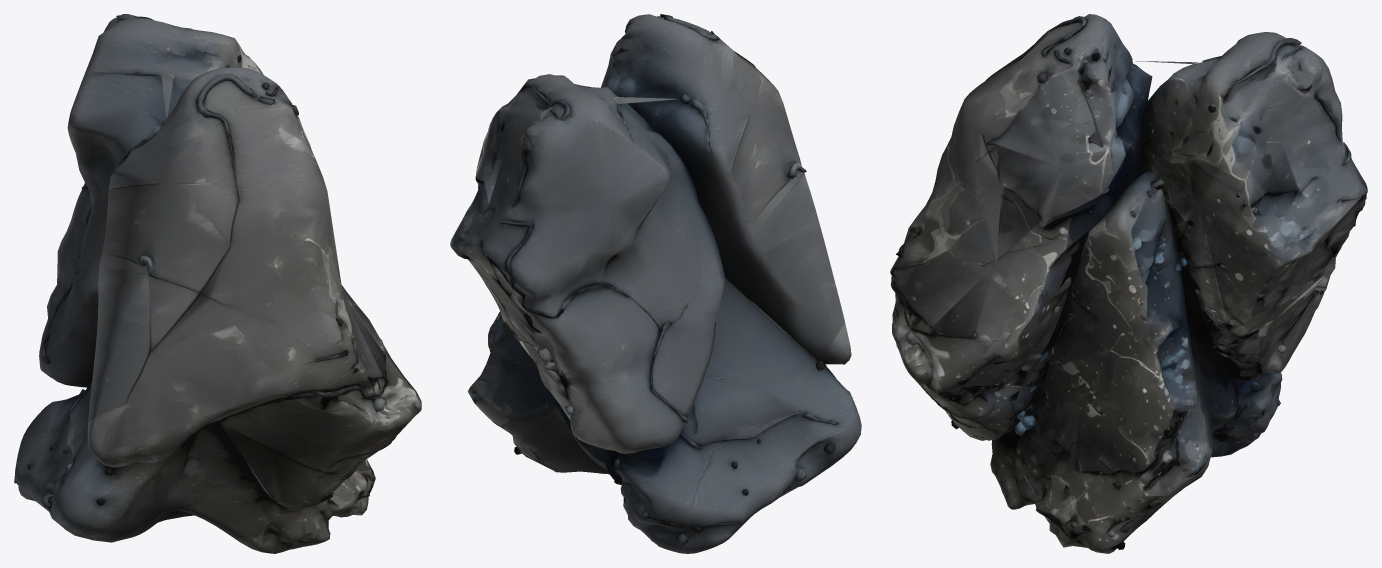
The model's file is moon-rock.glb.
3 views of the same model, side by side, from view 1: azimuth 30°, elevation 25°; view 2: azimuth 150°, elevation 25°; view 3: azimuth 270°, elevation 25° (orthographic).
Visible parts, largest first — view 1: tripo_node_7bce164b-aa76-43ff-9365-84cde662b204; view 2: tripo_node_7bce164b-aa76-43ff-9365-84cde662b204; view 3: tripo_node_7bce164b-aa76-43ff-9365-84cde662b204.
Part boxes in pixels (<box>): tripo_node_7bce164b-aa76-43ff-9365-84cde662b204: <box>14,14,421,553</box>; tripo_node_7bce164b-aa76-43ff-9365-84cde662b204: <box>450,14,861,553</box>; tripo_node_7bce164b-aa76-43ff-9365-84cde662b204: <box>890,14,1367,553</box>.
Size of the model in its own units: 0.7349 by 0.9995 by 0.9272.
Materials: 1 (1 with a texture image).
